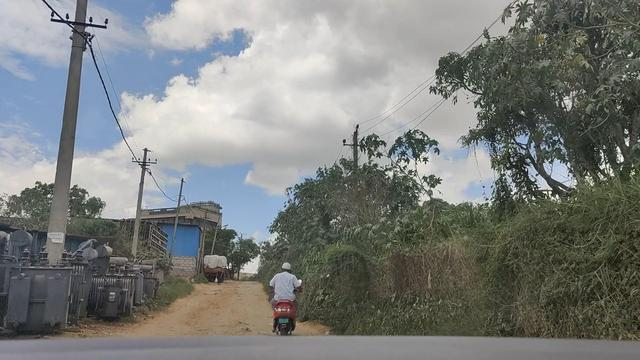HMV: (196, 250, 230, 290)
UnsurfacedRoad: (165, 298, 263, 334)
